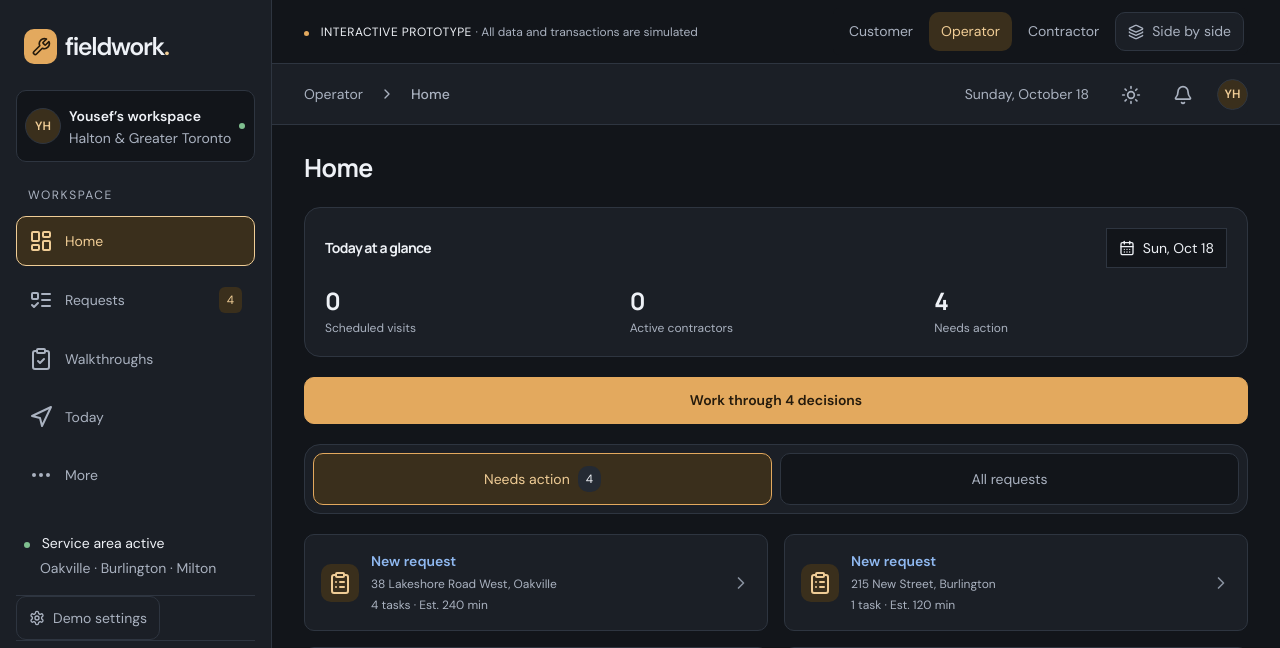
Test: Operator workspace › lists the contractors from More
Click the button "More".
click(136, 475)  # box [16, 450, 255, 500]
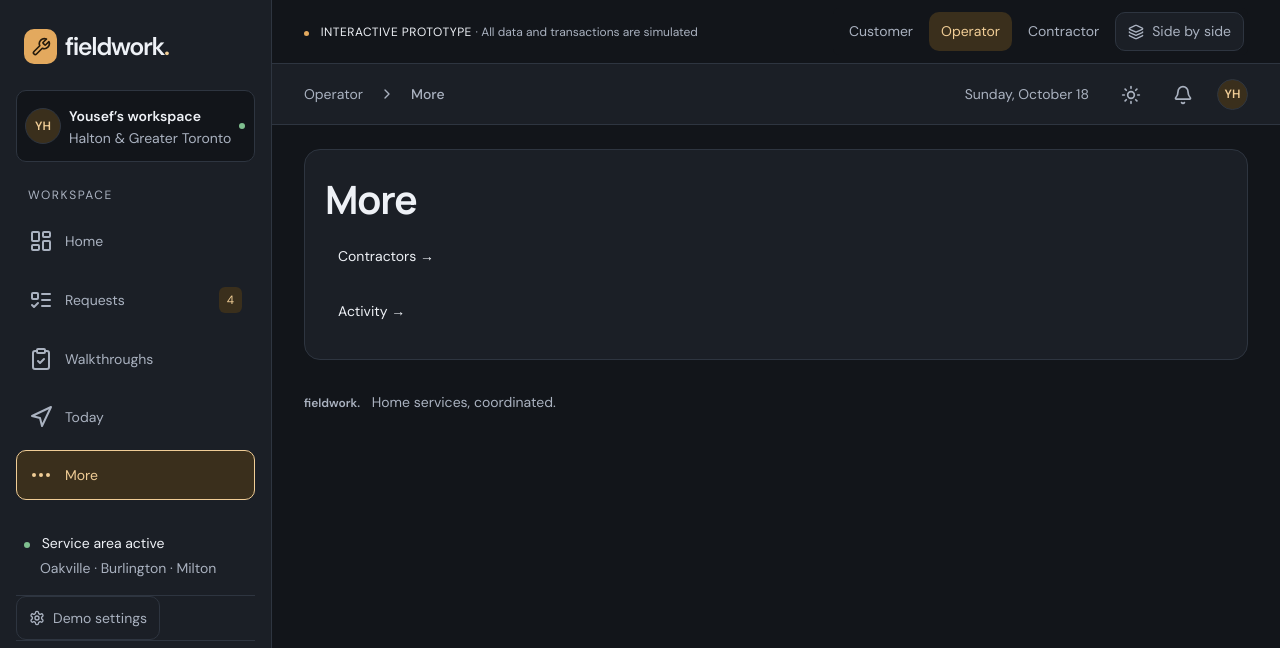
Click the button "Contractors →".
click(377, 256)  # box [325, 229, 1227, 284]
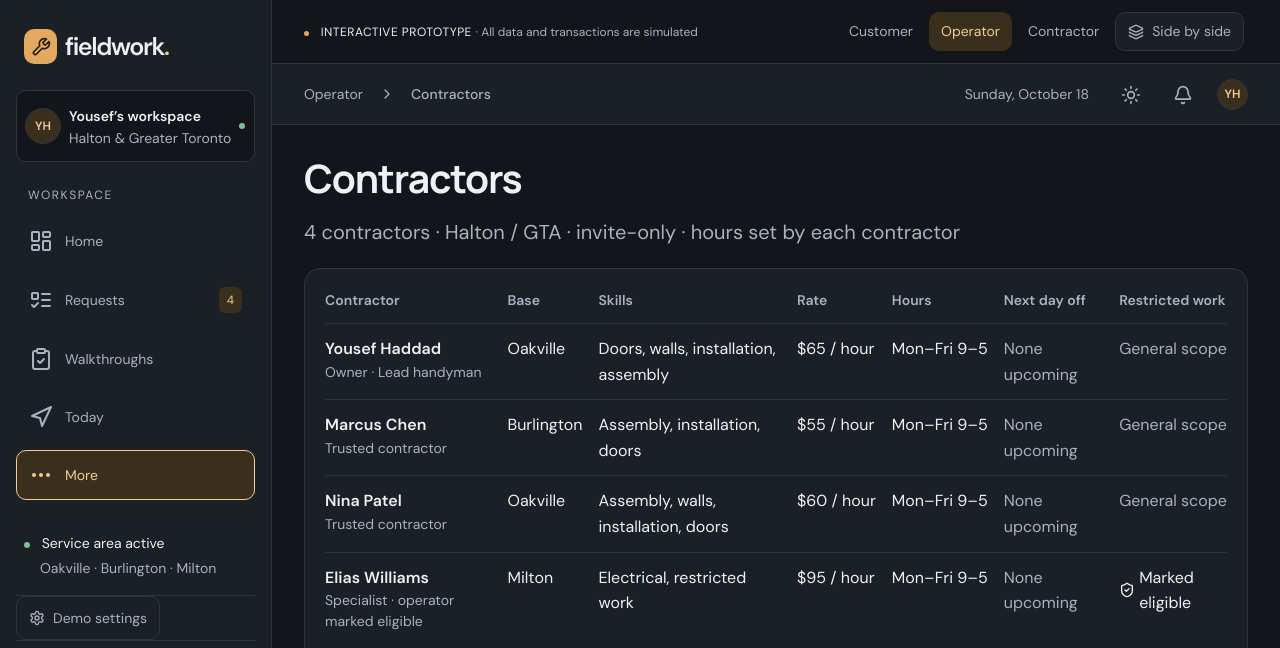
Expected: the heading reads "Contractors", [304, 151, 522, 205]
Expected: the column heading "Marcus Chen Trusted contractor" is shown, [325, 400, 500, 476]
Expected: the column heading "Nina Patel Trusted contractor" is shown, [325, 476, 500, 552]
